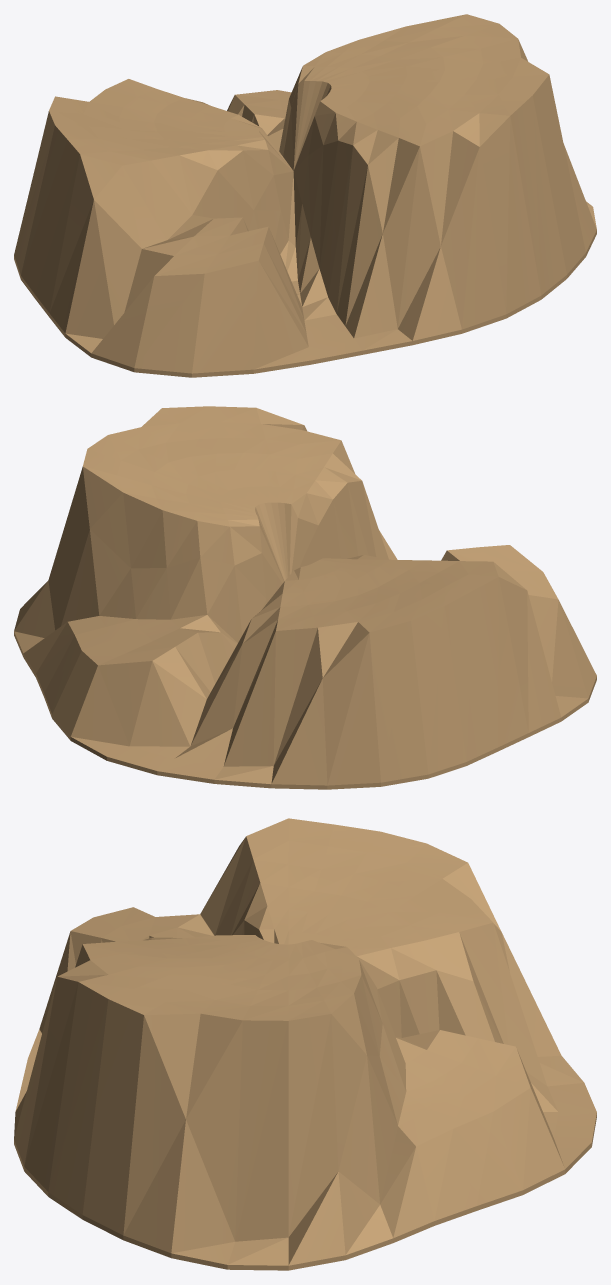
Rendered from rubble_cluster.glb.
The picture shows the model from 3 angles, top to bottom: view 1: azimuth 30°, elevation 25°; view 2: azimuth 150°, elevation 25°; view 3: azimuth 270°, elevation 25°; orthographic projection. The views are drawn at different scales.
Parts seen in each view (by area): view 1: Rubble; view 2: Rubble; view 3: Rubble.
Part boxes in pixels (x1,y1,x2,y2): Rubble: [14, 14, 596, 377]; Rubble: [14, 406, 596, 789]; Rubble: [14, 818, 596, 1270].
Size of the model in its own units: 3 by 1 by 2.5.
